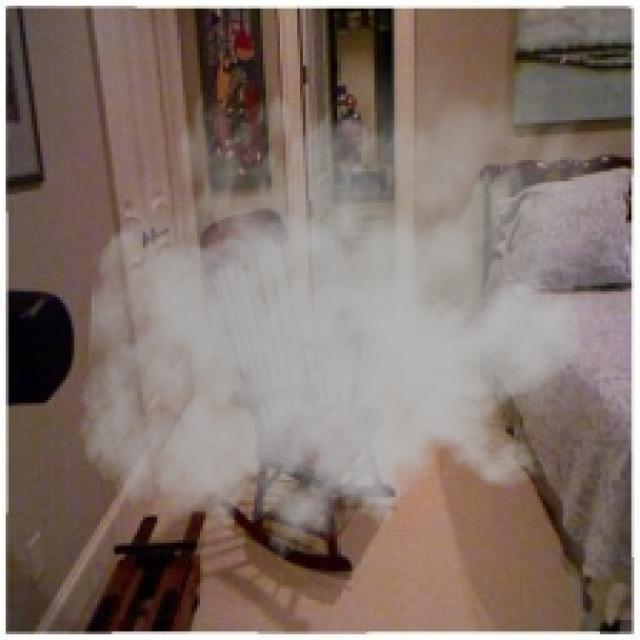Smoke: (77, 29, 634, 578)
